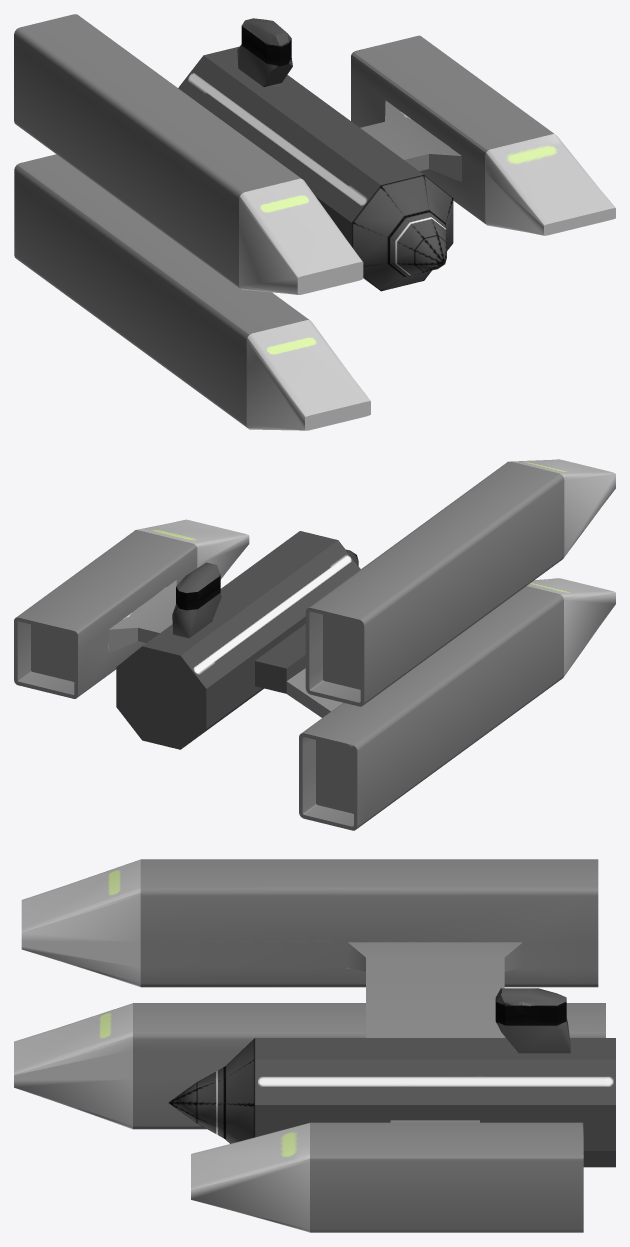
The model's file is AssaultCarrier.dae.
3 views of the same model, one above another, from view 1: azimuth 30°, elevation 25°; view 2: azimuth 150°, elevation 25°; view 3: azimuth 270°, elevation 25° (orthographic). The views are drawn at different scales.
Parts seen in each view (by area): view 1: ShipPart2, ShipPart3, MainHull, ShipPart1, HangarDoor2, HangarDoor3, HangarDoor1; view 2: ShipPart2, ShipPart3, MainHull, ShipPart1, HangarDoor2, HangarDoor3, HangarDoor1; view 3: ShipPart2, MainHull, ShipPart1, ShipPart3, HangarDoor2, HangarDoor3, HangarDoor1.
Boxes of the visible parts, left/top/right/bottom form: ShipPart2: left=14, top=14, right=301, bottom=288; ShipPart3: left=14, top=154, right=308, bottom=427; MainHull: left=178, top=18, right=453, bottom=291; ShipPart1: left=351, top=35, right=553, bottom=225; HangarDoor2: left=239, top=178, right=363, bottom=294; HangarDoor3: left=246, top=320, right=370, bottom=430; HangarDoor1: left=485, top=134, right=615, bottom=235; ShipPart2: left=286, top=461, right=564, bottom=706; ShipPart3: left=286, top=586, right=563, bottom=830; MainHull: left=116, top=531, right=360, bottom=749; ShipPart1: left=14, top=530, right=197, bottom=698; HangarDoor2: left=511, top=459, right=615, bottom=557; HangarDoor3: left=527, top=578, right=615, bottom=677; HangarDoor1: left=134, top=519, right=249, bottom=579; ShipPart2: left=140, top=859, right=598, bottom=1037; MainHull: left=168, top=988, right=615, bottom=1167; ShipPart1: left=310, top=1120, right=583, bottom=1232; ShipPart3: left=133, top=1003, right=605, bottom=1129; HangarDoor2: left=21, top=859, right=140, bottom=986; HangarDoor3: left=14, top=1003, right=132, bottom=1129; HangarDoor1: left=191, top=1123, right=309, bottom=1232.
Bounding box in the file's own units: 7.93 × 10.12 × 4.45.
1 material, 1 textured.
